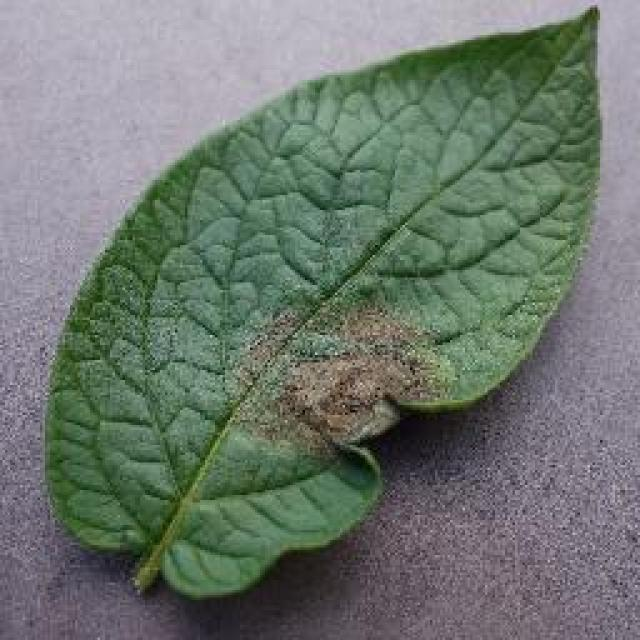late_blight: (37, 0, 607, 602)
